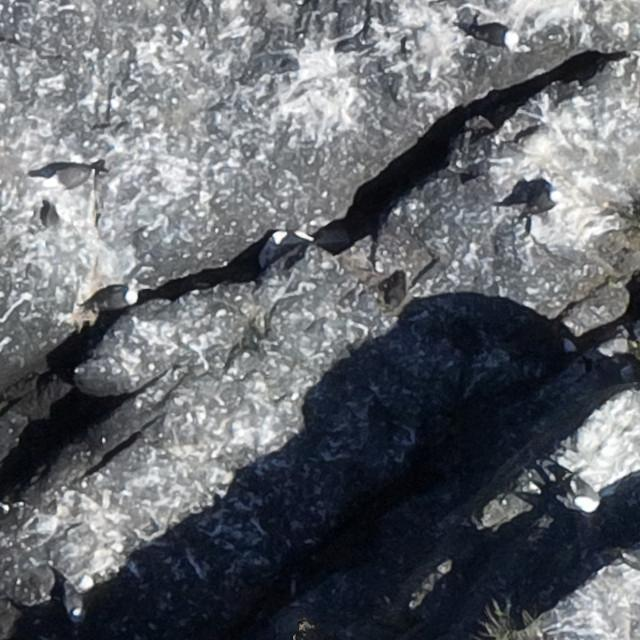umineko: (569, 482, 609, 514), (97, 290, 140, 310), (468, 24, 513, 43), (48, 166, 86, 186), (64, 586, 82, 618), (530, 191, 560, 210), (44, 206, 59, 232)
